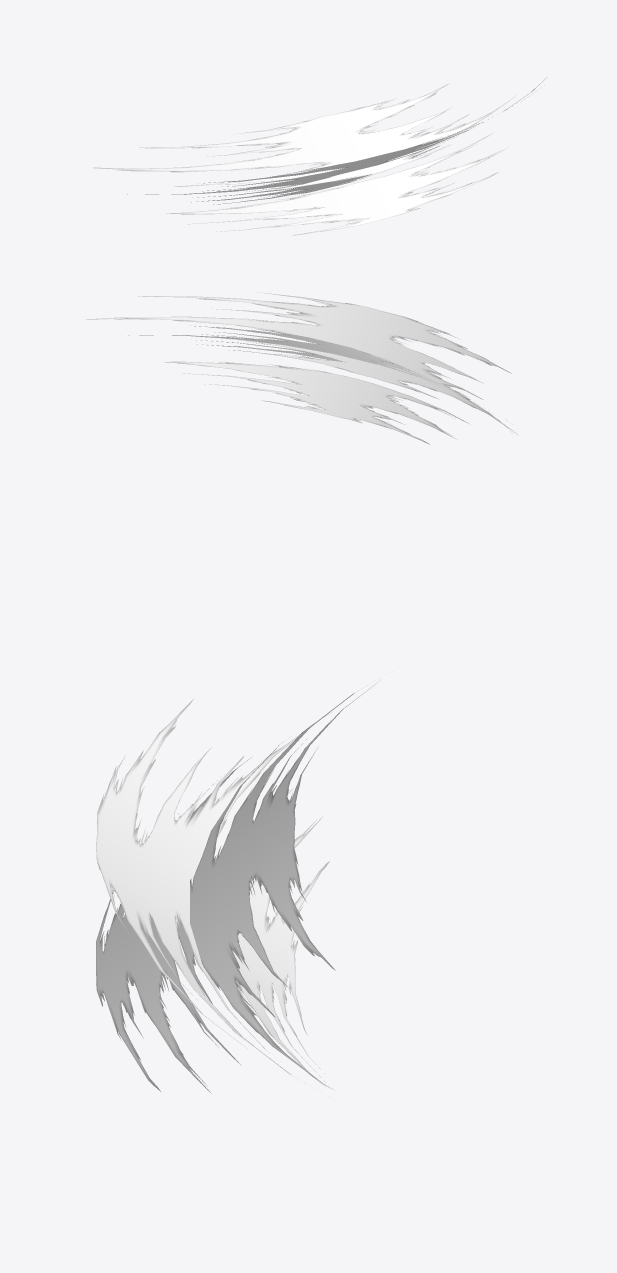
The model's file is eff_tun003_mesh.fbx.
3 renders of one model, top to bottom at view 1: azimuth 30°, elevation 25°; view 2: azimuth 150°, elevation 25°; view 3: azimuth 270°, elevation 25°, orthographic. The views are drawn at different scales.
Visible parts, largest first — view 1: eff_tun003_mesh; view 2: eff_tun003_mesh; view 3: eff_tun003_mesh.
Part boxes in pixels (x1,y1,x2,y2): eff_tun003_mesh: (93, 77, 546, 235); eff_tun003_mesh: (86, 292, 517, 444); eff_tun003_mesh: (96, 682, 377, 1093).
Bounding box in the file's own units: 407 × 51.55 × 132.
